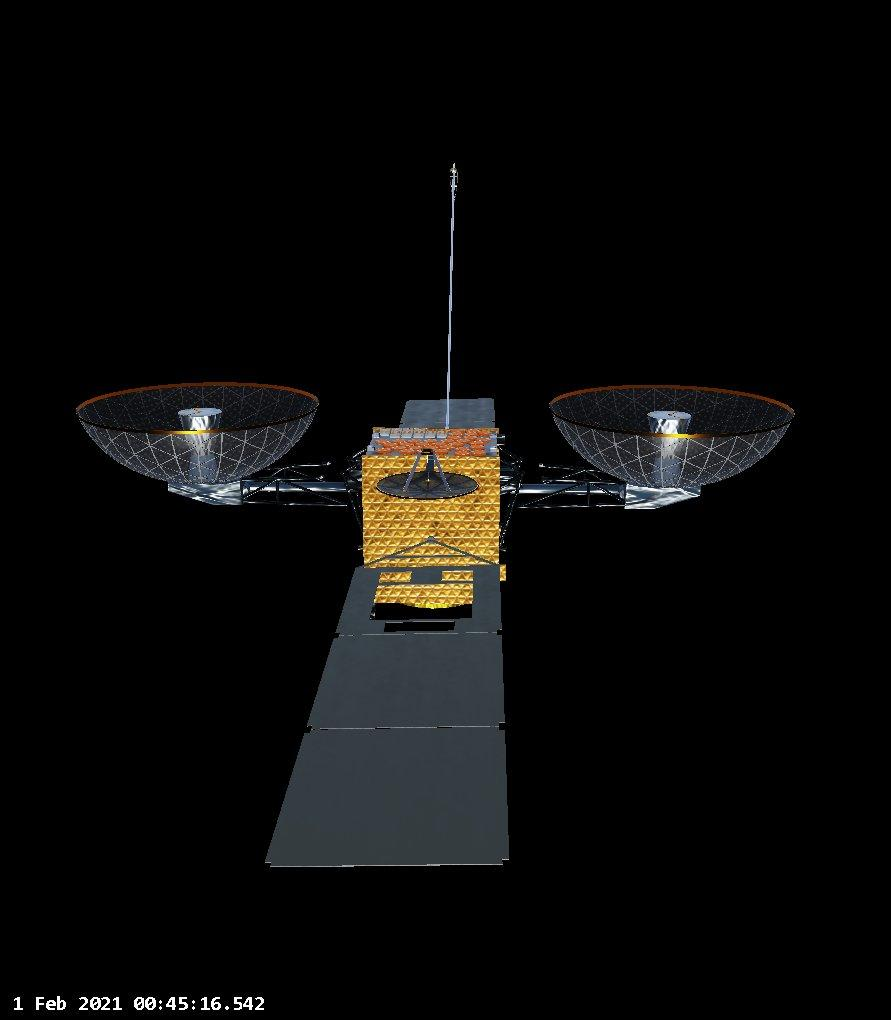antenna: (534, 368, 797, 527), (68, 371, 328, 523), (437, 155, 468, 438), (375, 443, 485, 513), (376, 444, 488, 510)
body: (350, 417, 514, 576)
solar: (254, 550, 516, 873), (397, 387, 497, 451)
